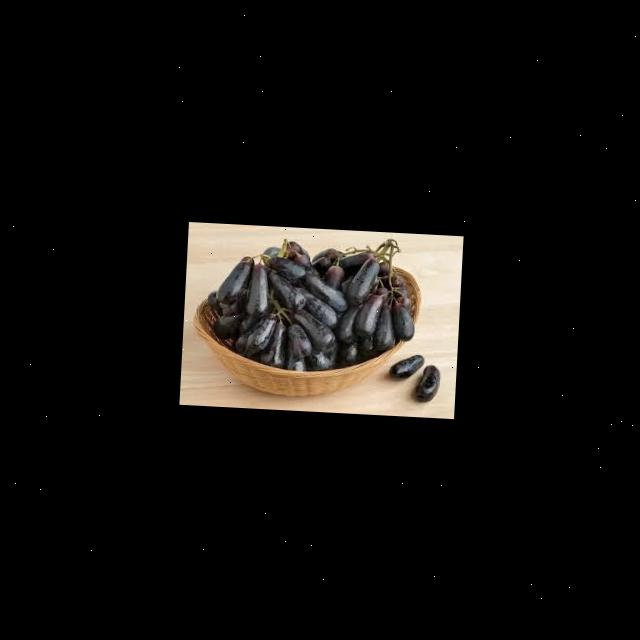grape: (203, 228, 419, 376)
